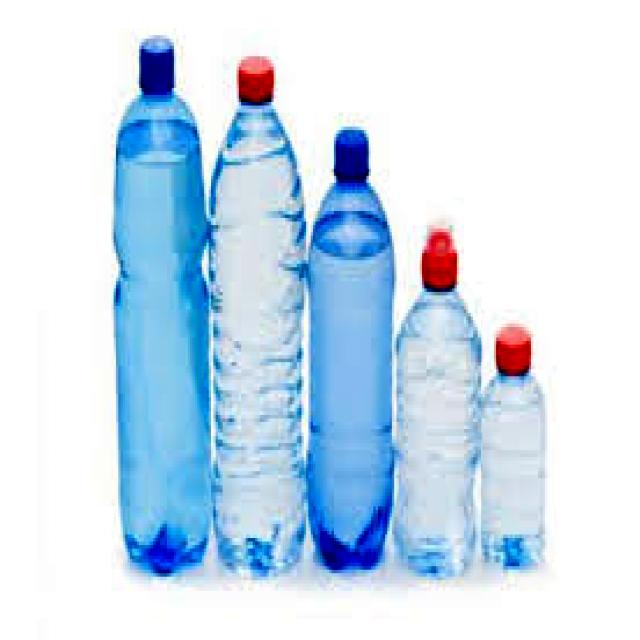Plastic: (111, 30, 217, 574), (206, 52, 308, 574), (305, 125, 396, 573), (392, 226, 481, 576), (477, 322, 552, 579)
